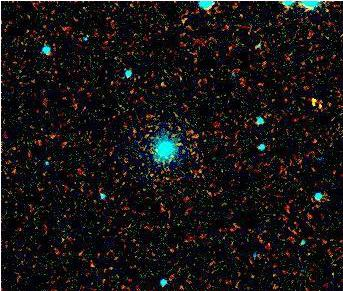star: (301, 93, 331, 123)
